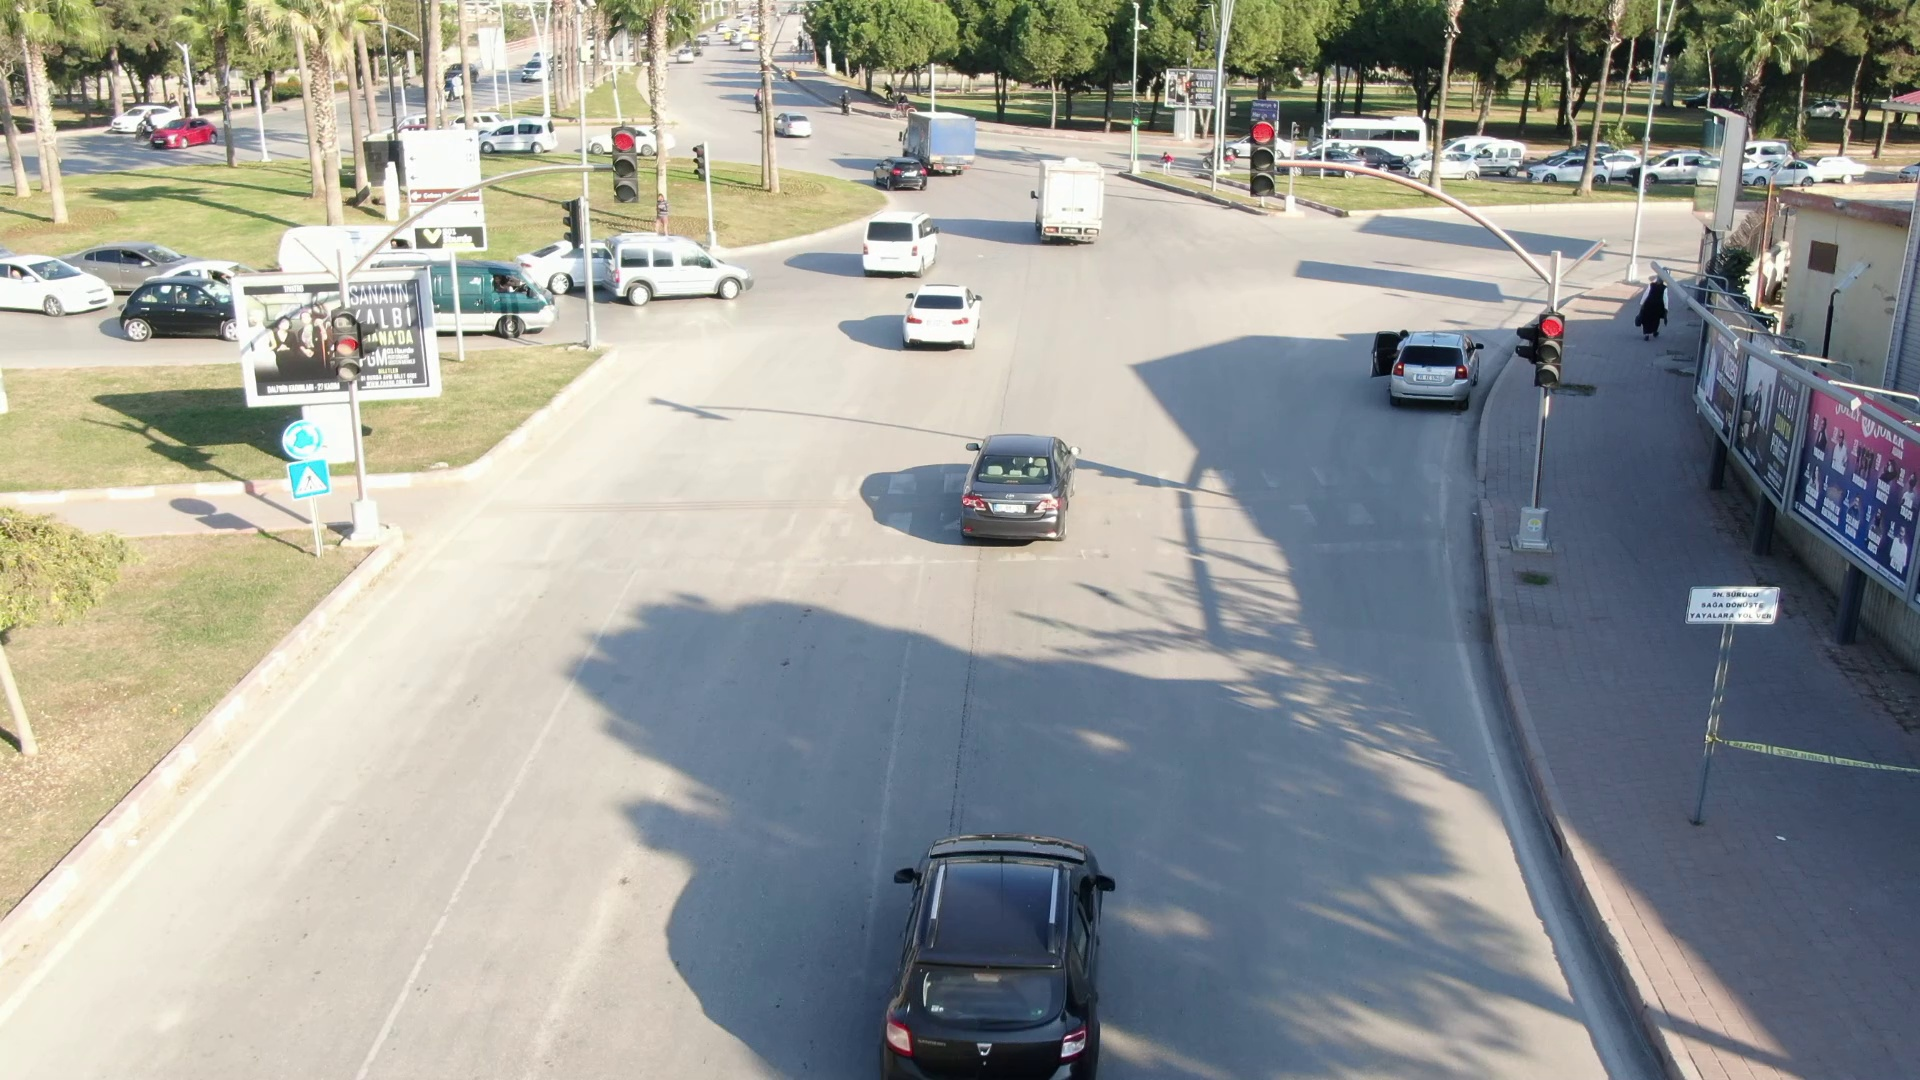car: (849, 808, 1172, 1080), (953, 421, 1083, 551), (595, 222, 765, 313), (1372, 318, 1486, 414), (1020, 150, 1116, 253), (846, 200, 942, 279), (895, 276, 989, 352), (866, 152, 935, 196)
person: (1626, 266, 1679, 344)
